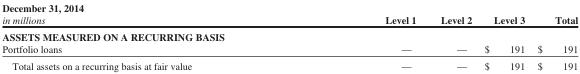table: (1, 1, 577, 70)
table column: (1, 1, 287, 70), (287, 1, 427, 70), (477, 1, 530, 70), (427, 1, 477, 70), (530, 1, 577, 70)
table column header: (1, 1, 577, 27)
table projected row header: (1, 27, 577, 42)
table row: (1, 1, 577, 27), (1, 27, 577, 42), (1, 42, 577, 56), (1, 56, 577, 70)
